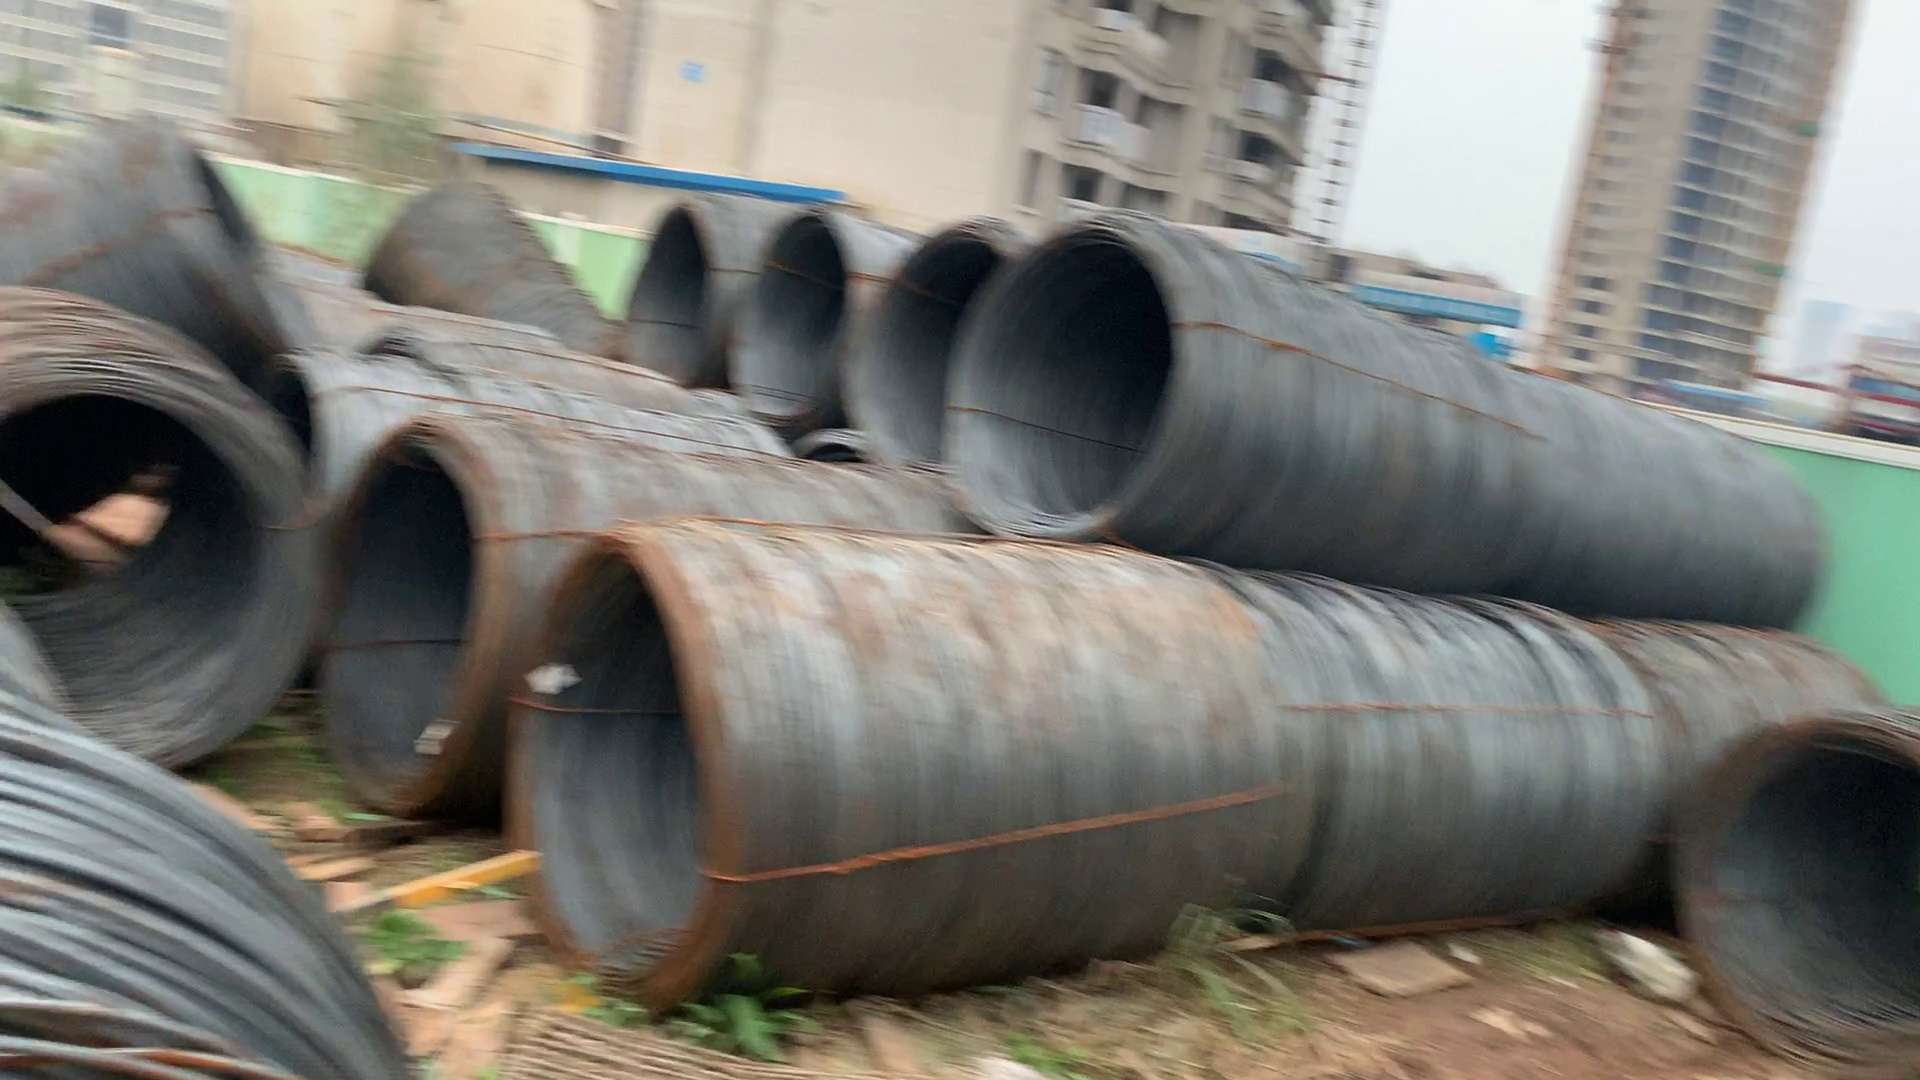coil: (1, 367, 315, 777), (516, 521, 752, 1004), (1685, 696, 1916, 1080), (313, 415, 513, 829), (952, 227, 1189, 543), (142, 113, 327, 392), (857, 202, 1013, 516), (721, 207, 860, 438), (603, 193, 738, 404)
